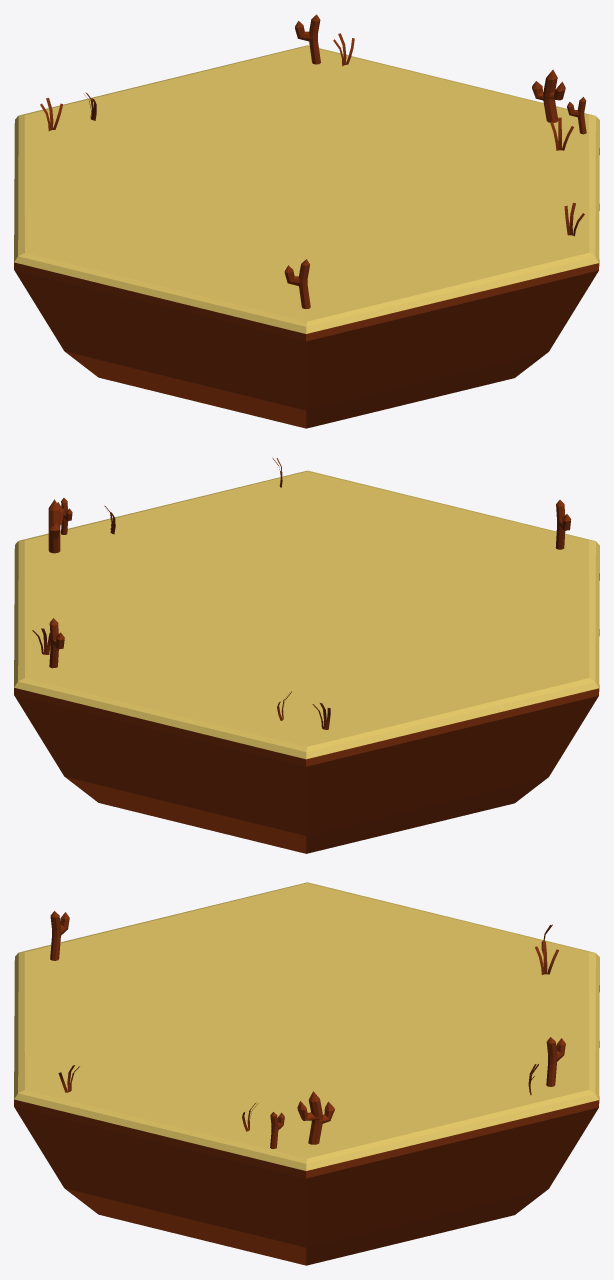
Rendered from Asset_Biome_Desert_02.fbx.
3 renders of one model, top to bottom at view 1: azimuth 30°, elevation 25°; view 2: azimuth 150°, elevation 25°; view 3: azimuth 270°, elevation 25°, orthographic.
Visible parts, largest first — view 1: Asset_Tile_Desert, PolySurface_cactus_02, PolySurface_cactus_01, PolySurface_cactus_06; view 2: Asset_Tile_Desert, PolySurface_cactus_02, PolySurface_cactus_01; view 3: Asset_Tile_Desert, PolySurface_cactus_02, PolySurface_cactus_06, PolySurface_cactus_01.
Part boxes in pixels (<box>): Asset_Tile_Desert: <box>14,45,599,428</box>; PolySurface_cactus_02: <box>532,69,565,122</box>; PolySurface_cactus_01: <box>295,14,320,64</box>; PolySurface_cactus_06: <box>284,259,310,308</box>; Asset_Tile_Desert: <box>14,470,599,853</box>; PolySurface_cactus_02: <box>48,499,63,553</box>; PolySurface_cactus_01: <box>49,618,64,668</box>; Asset_Tile_Desert: <box>14,882,599,1265</box>; PolySurface_cactus_02: <box>297,1091,334,1144</box>; PolySurface_cactus_06: <box>50,911,69,960</box>; PolySurface_cactus_01: <box>546,1037,565,1086</box>.
Bounding box in the file's own units: 436 × 148 × 378.
Materials: 1 (1 with a texture image).
